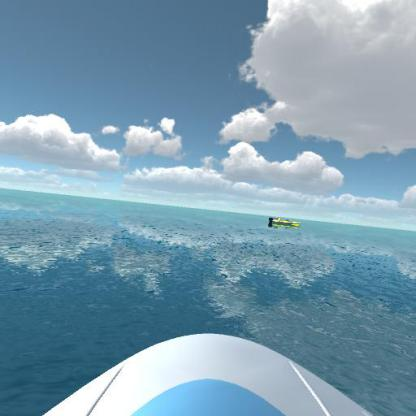usv2: (268, 214, 306, 232)
